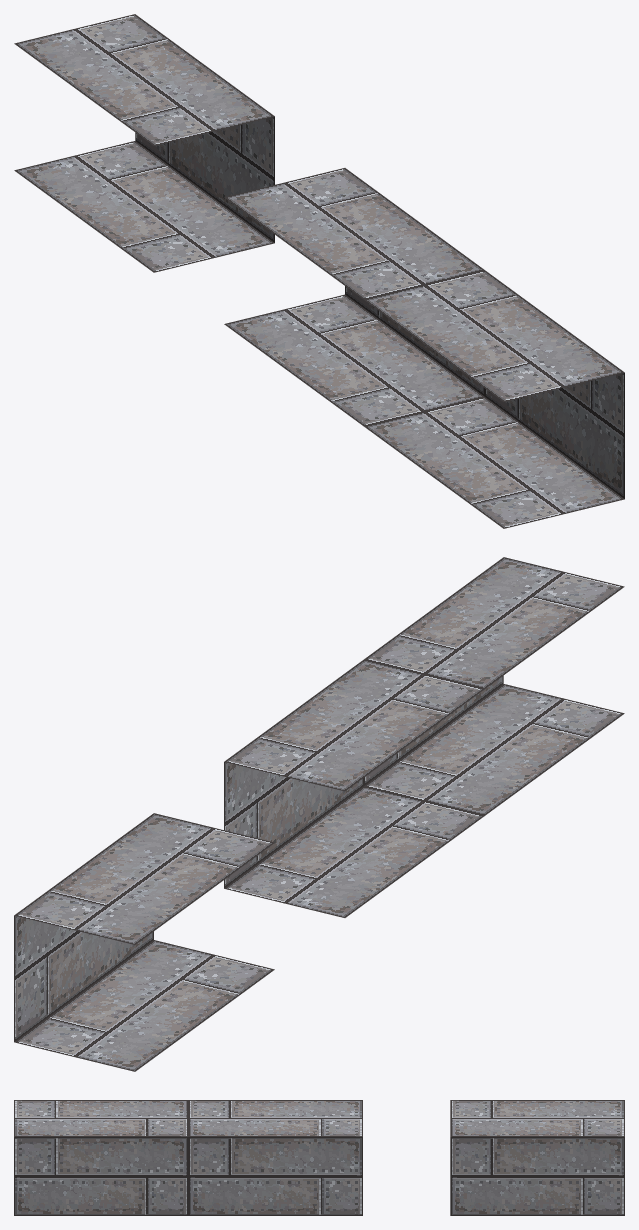
The model's file is Arena3.glb.
3 views of the same model, one above another, from view 1: azimuth 30°, elevation 25°; view 2: azimuth 150°, elevation 25°; view 3: azimuth 270°, elevation 25° (orthographic). The views are drawn at different scales.
Parts seen in each view (by area): view 1: Pole, Pole.001; view 2: Pole, Pole.001; view 3: Pole, Pole.001.
Part boxes in pixels (<box>): Pole: <box>224,168,624,528</box>; Pole.001: <box>14,14,274,272</box>; Pole: <box>224,557,624,917</box>; Pole.001: <box>14,813,274,1071</box>; Pole: <box>14,1100,362,1215</box>; Pole.001: <box>450,1100,624,1215</box>.
Bounding box in the file's own units: 1 × 1 × 7.
Materials: 1 (1 with a texture image).
